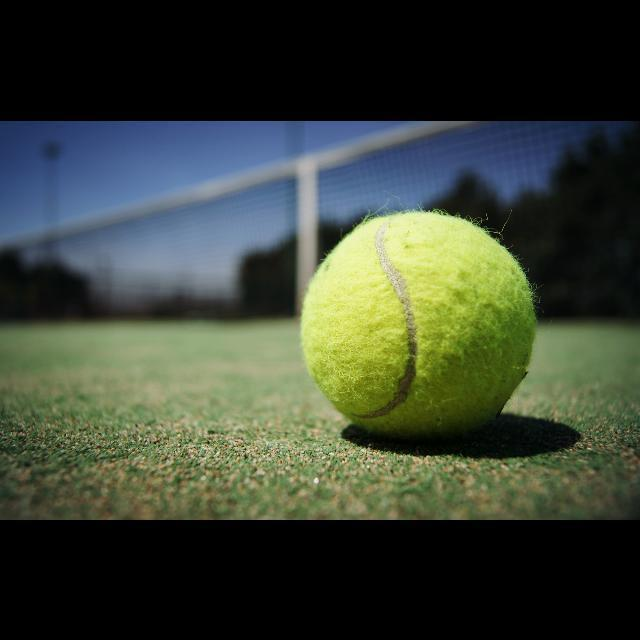tennis-ball: (299, 207, 537, 447)
